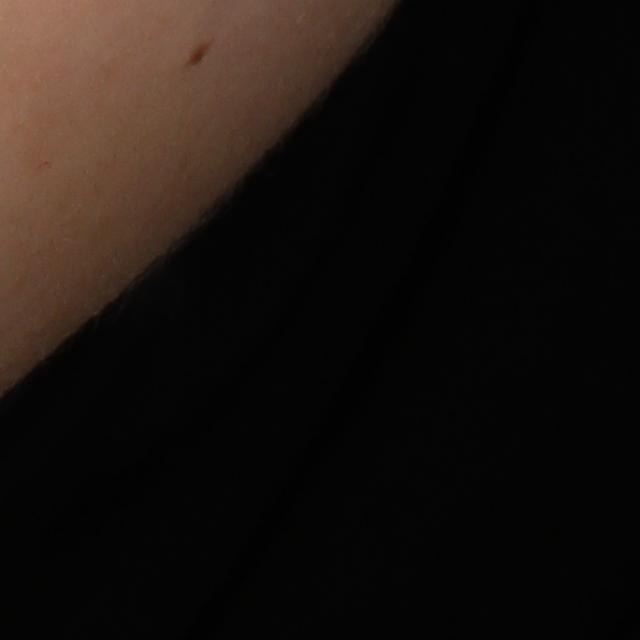nevus: (182, 40, 215, 71)
